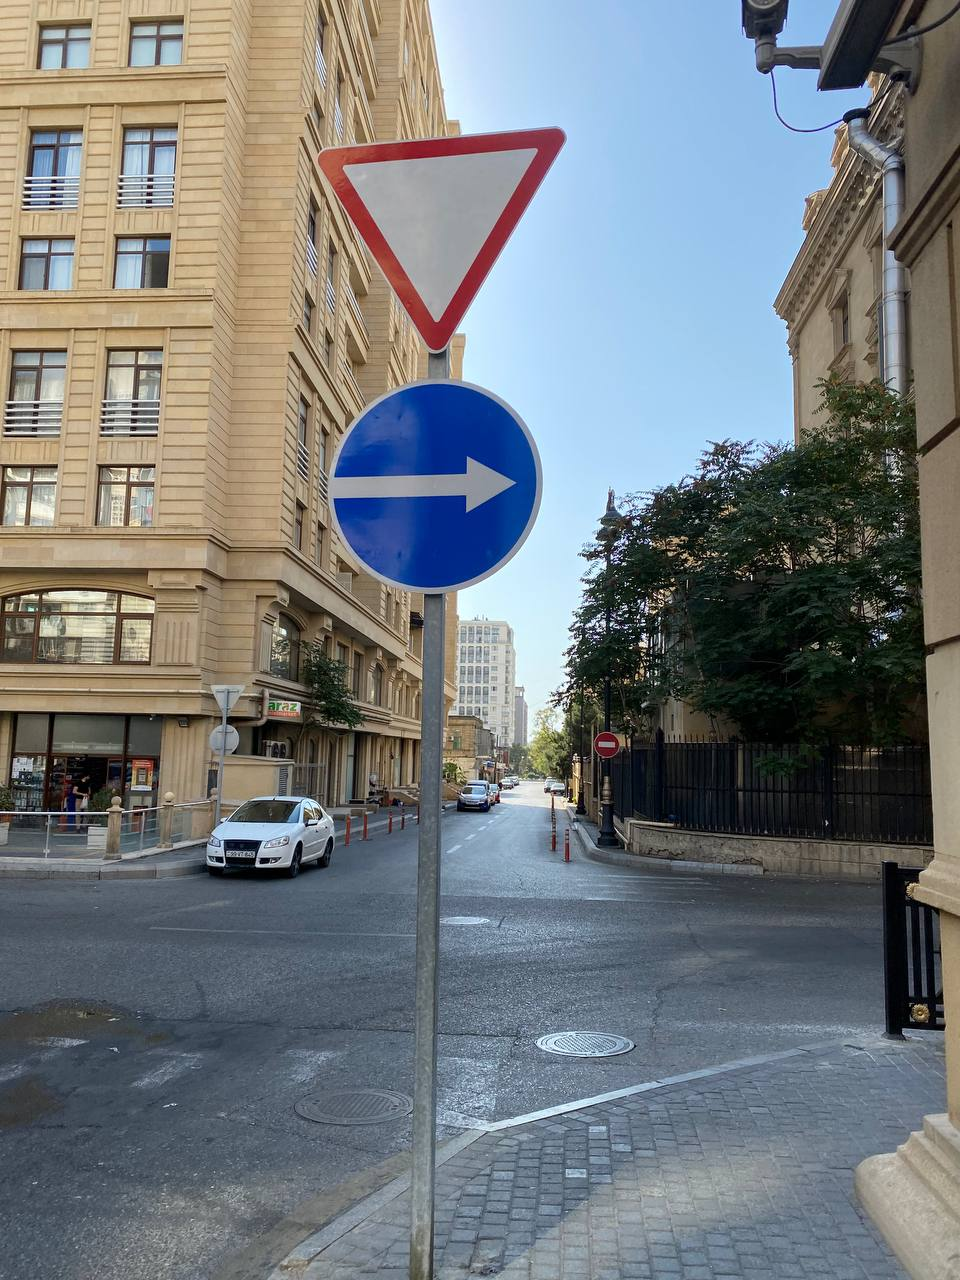Give Way: (317, 126, 566, 356)
Turn Right: (327, 379, 544, 595)
